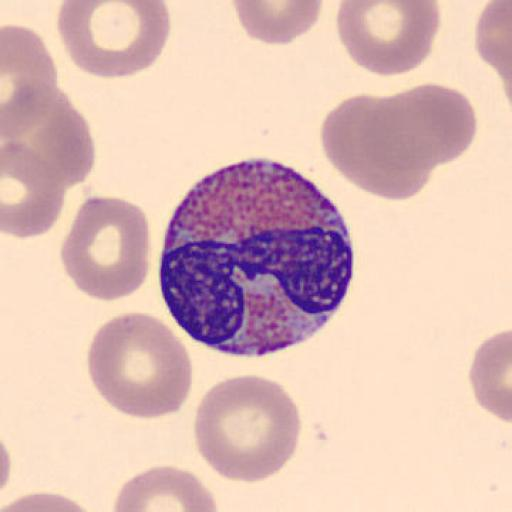RBC: (318, 82, 478, 204), (193, 373, 302, 485), (86, 310, 194, 421), (3, 83, 97, 189), (60, 194, 152, 302), (56, 0, 172, 80), (335, 0, 442, 78), (1, 137, 67, 240), (2, 23, 58, 135), (110, 464, 220, 512), (468, 327, 512, 425), (230, 0, 325, 45), (473, 0, 512, 104), (0, 489, 102, 511), (0, 430, 13, 506)
WBC: (160, 157, 355, 358)
